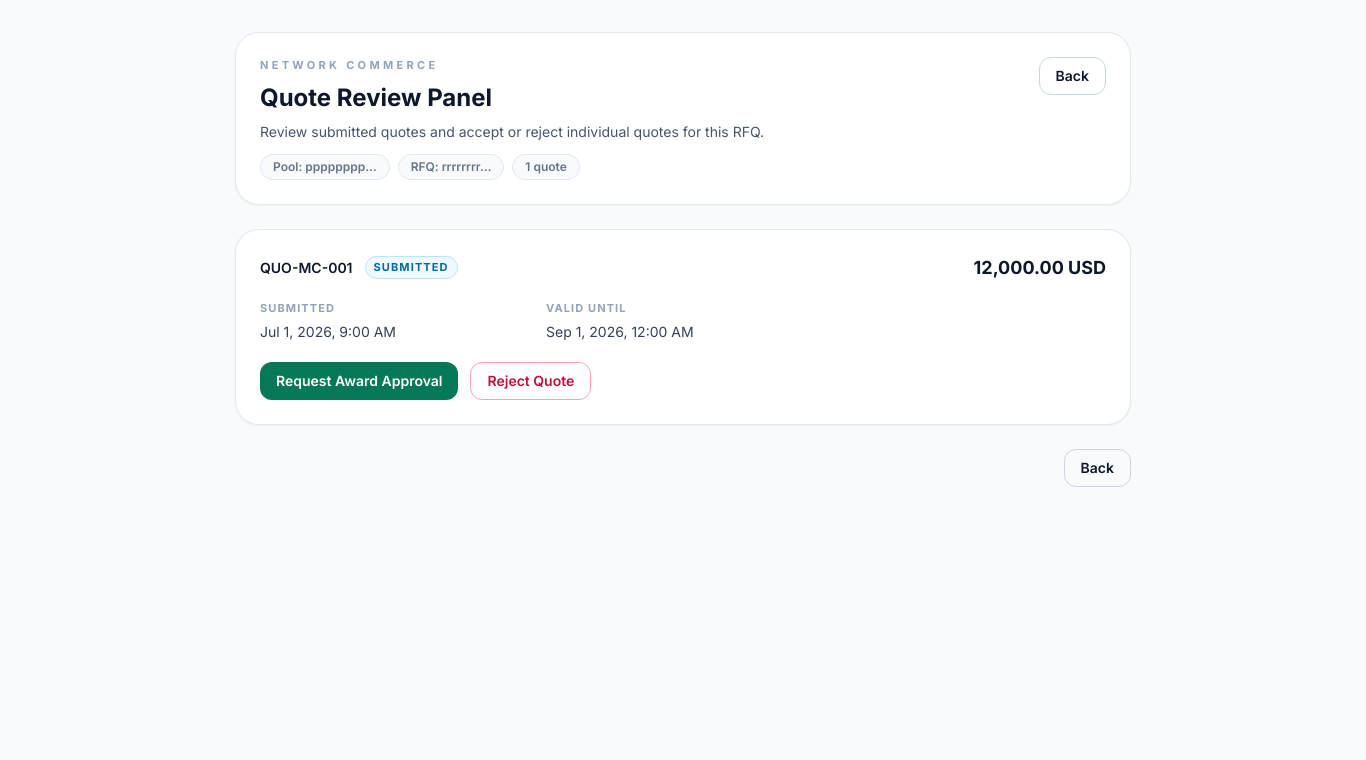
Scenario: MC-FE-06: AWARD_REQUEST_ALREADY_PENDING error shows safe message › shows safe "already pending" message on AWARD_REQUEST_ALREADY_PENDING error
Click the button with aria-label "request award approval for quote quo-mc-001" at (359, 380), box [260,362,458,400]
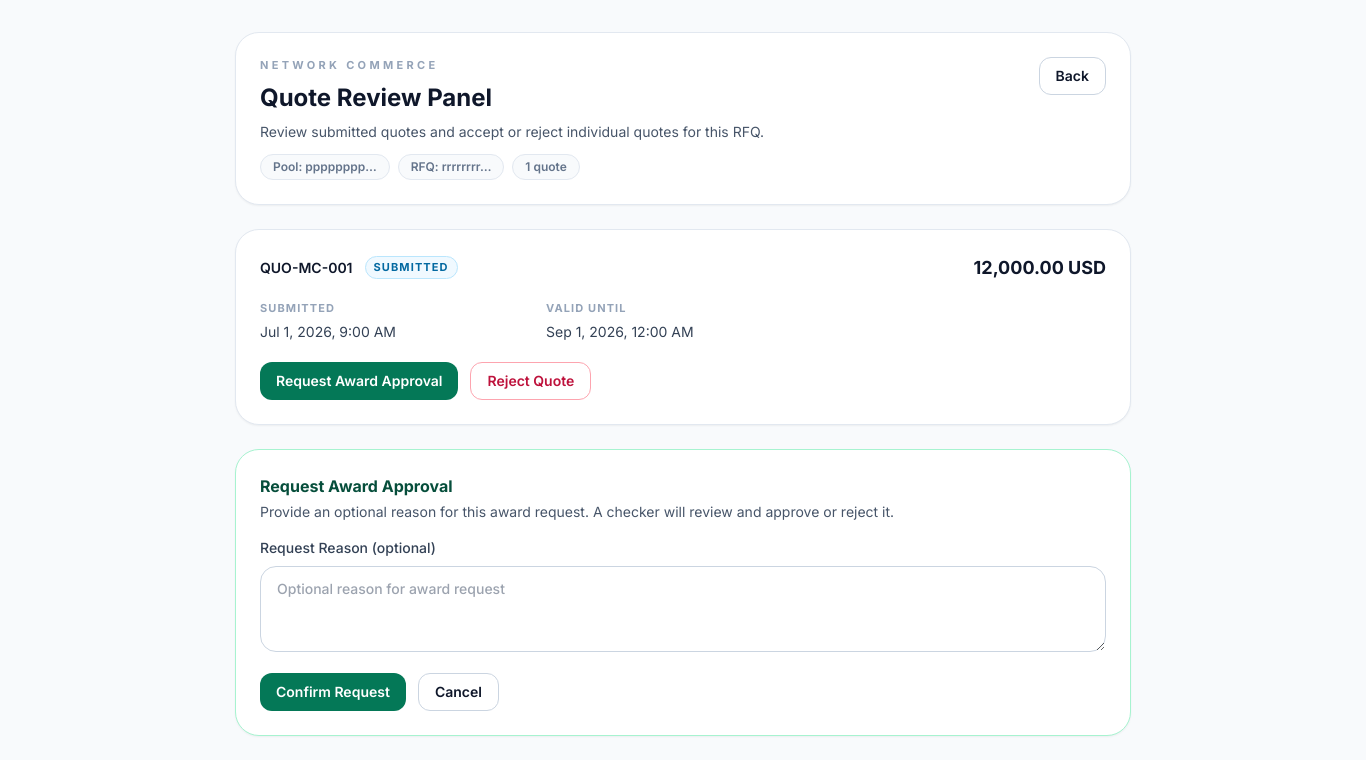
Click the button "Confirm Request" at (333, 692), box [260,672,406,710]
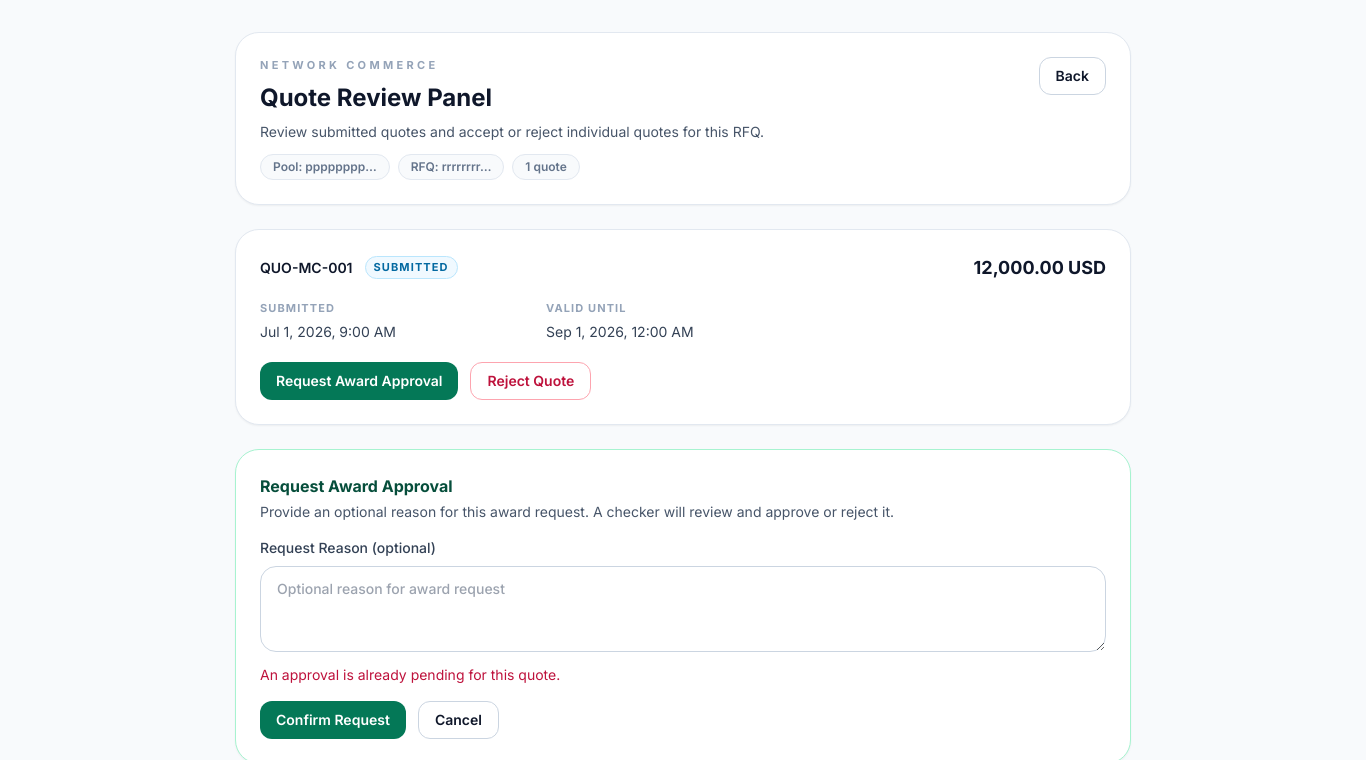
Result: the text "An approval is already pending for this quote." is shown at [260,666,560,682]
